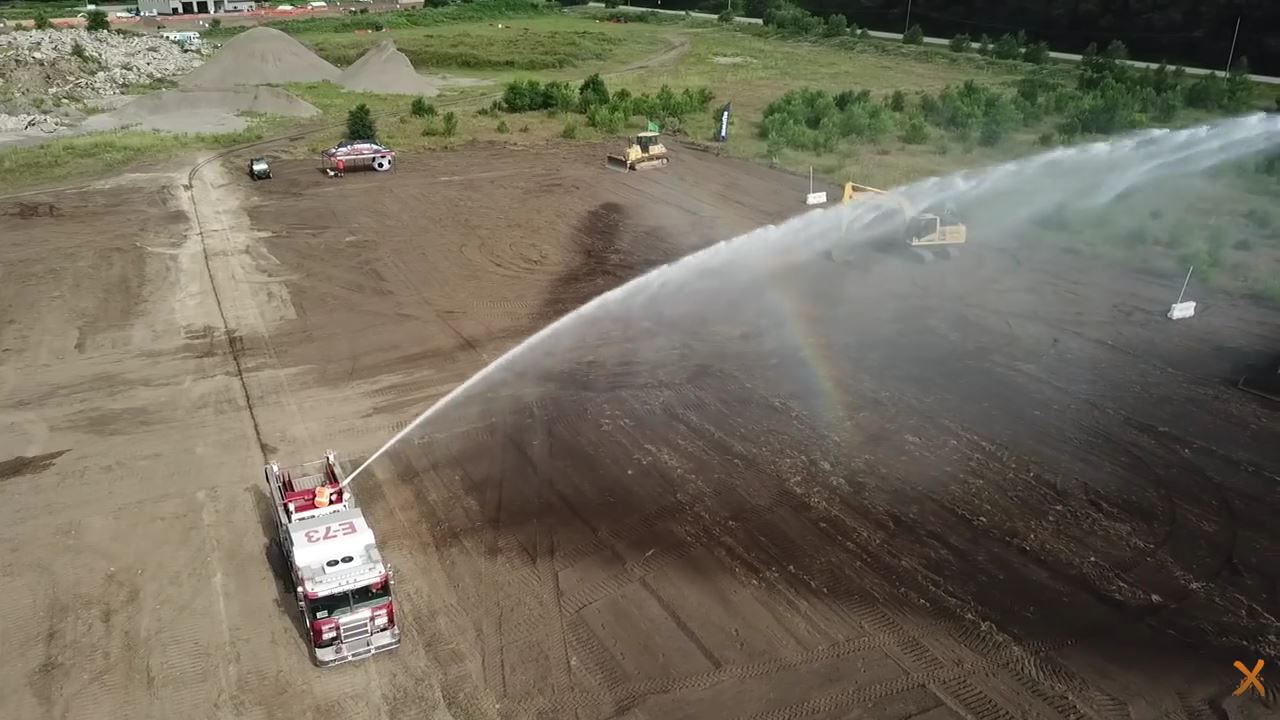con_eq: (255, 446, 409, 668), (833, 178, 970, 266), (596, 122, 670, 180), (244, 154, 272, 181)
